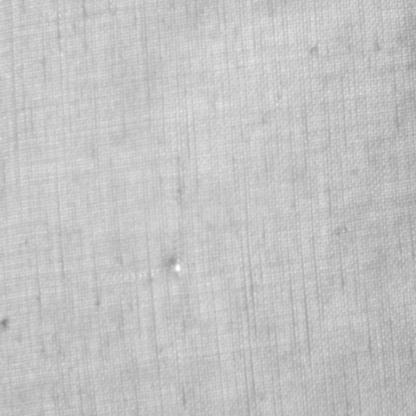hole: (168, 255, 182, 278)
